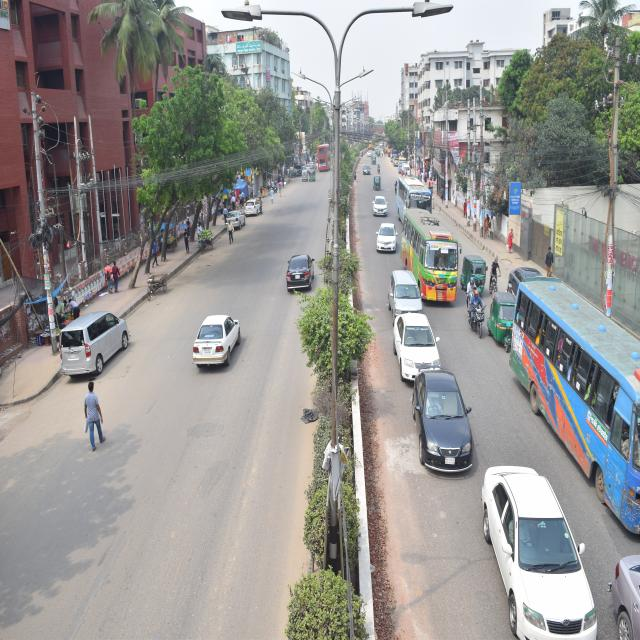bus: (507, 239, 640, 554), (392, 196, 465, 301), (394, 173, 450, 228), (315, 144, 339, 194)
car: (444, 422, 584, 640), (405, 348, 490, 484), (189, 280, 278, 394), (377, 303, 464, 418), (59, 271, 130, 408), (384, 260, 446, 349), (270, 239, 324, 322), (374, 202, 408, 282), (365, 177, 397, 241), (218, 186, 244, 264), (245, 190, 270, 240), (354, 153, 376, 185), (368, 145, 382, 173)
motorbike: (457, 273, 490, 355), (469, 284, 488, 346)
pickup-van: (290, 146, 307, 185)
